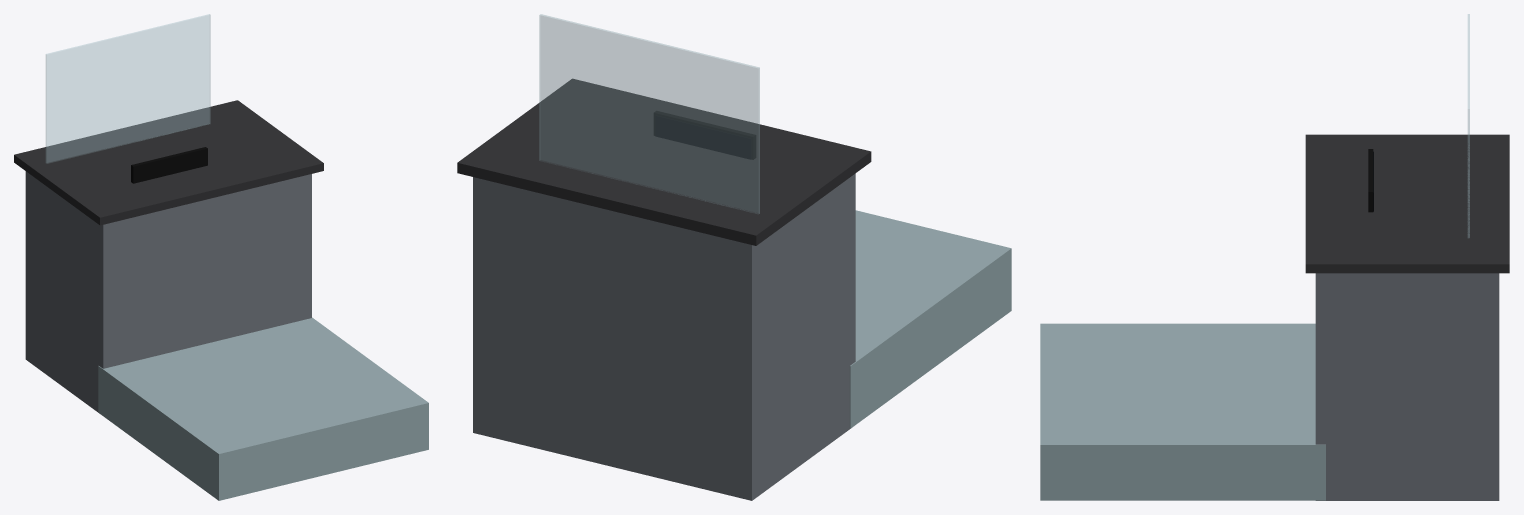
File: police.custody.desk_small.glb
3 renders of one model, left to right at view 1: azimuth 30°, elevation 25°; view 2: azimuth 150°, elevation 25°; view 3: azimuth 270°, elevation 25°, orthographic. The views are drawn at different scales.
Parts seen in each view (by area): view 1: main__laminate_grey, main__vinyl_floor, main__worktop, main__glass, main__plastic_black; view 2: main__laminate_grey, main__worktop, main__glass, main__vinyl_floor, main__screen, main__plastic_black; view 3: main__vinyl_floor, main__laminate_grey, main__worktop.
Part boxes in pixels (x1=…): main__laminate_grey: x1=25, y1=171, x2=311, y2=412; main__vinyl_floor: x1=98, y1=317, x2=428, y2=500; main__worktop: x1=14, y1=100, x2=323, y2=225; main__glass: x1=46, y1=14, x2=210, y2=163; main__plastic_black: x1=131, y1=147, x2=207, y2=183; main__laminate_grey: x1=473, y1=173, x2=855, y2=500; main__worktop: x1=457, y1=78, x2=871, y2=245; main__glass: x1=539, y1=14, x2=759, y2=213; main__vinyl_floor: x1=849, y1=210, x2=1011, y2=428; main__screen: x1=655, y1=115, x2=751, y2=159; main__plastic_black: x1=653, y1=111, x2=756, y2=159; main__vinyl_floor: x1=1040, y1=323, x2=1325, y2=500; main__laminate_grey: x1=1315, y1=273, x2=1499, y2=500; main__worktop: x1=1305, y1=134, x2=1509, y2=273.
Size of the model in its own units: 1.5 by 2 by 2.3.
